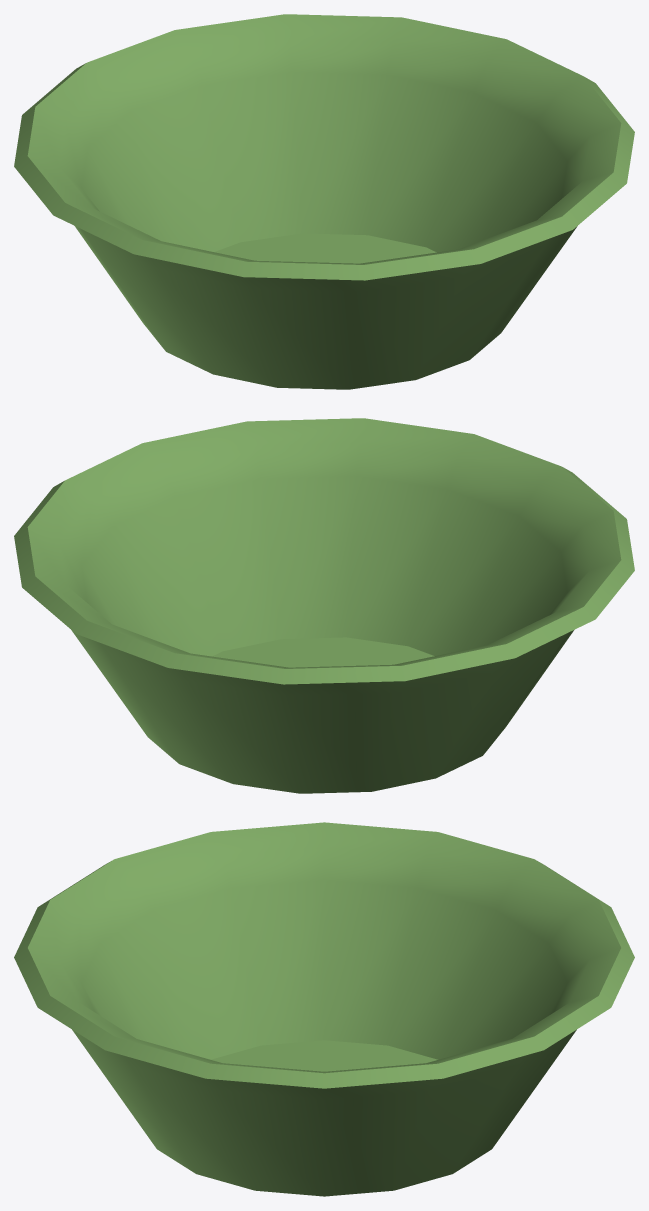
The model's file is Bowl_01.fbx.
3 renders of one model, top to bottom at view 1: azimuth 30°, elevation 25°; view 2: azimuth 150°, elevation 25°; view 3: azimuth 270°, elevation 25°, orthographic.
Visible parts, largest first — view 1: Bowl_01; view 2: Bowl_01; view 3: Bowl_01.
Part boxes in pixels (x1=…): Bowl_01: x1=14, y1=14, x2=634, y2=389; Bowl_01: x1=14, y1=418, x2=634, y2=793; Bowl_01: x1=14, y1=822, x2=634, y2=1196.
Size of the model in its own units: 0.1306 by 0.0399 by 0.1306.
